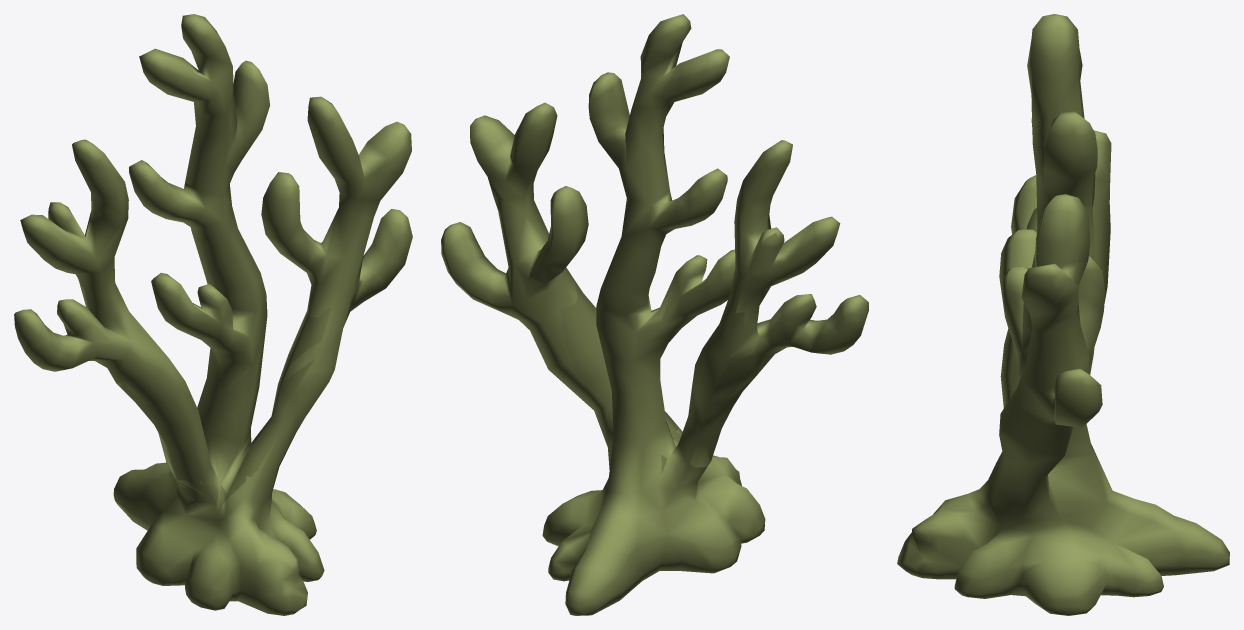
The model's file is seaweed_branch.fbx.
3 renders of one model, left to right at view 1: azimuth 30°, elevation 25°; view 2: azimuth 150°, elevation 25°; view 3: azimuth 270°, elevation 25°, orthographic.
Visible parts, largest first — view 1: seaweed_branch; view 2: seaweed_branch; view 3: seaweed_branch.
Boxes of the visible parts, x1,y1,x2,y2 form: seaweed_branch: (14, 14, 412, 615); seaweed_branch: (441, 14, 868, 615); seaweed_branch: (897, 14, 1229, 615).
Bounding box in the file's own units: 0.35 × 0.45 × 0.25.
1 material, 1 textured.
